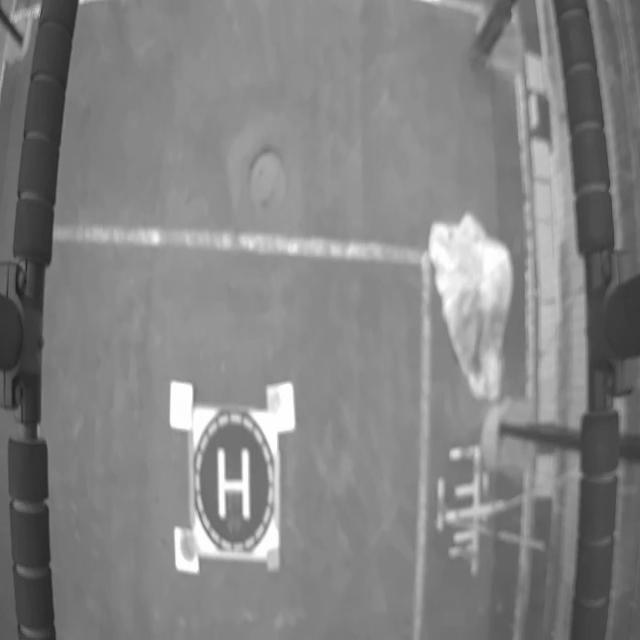Helipad: (217, 448, 250, 520)
